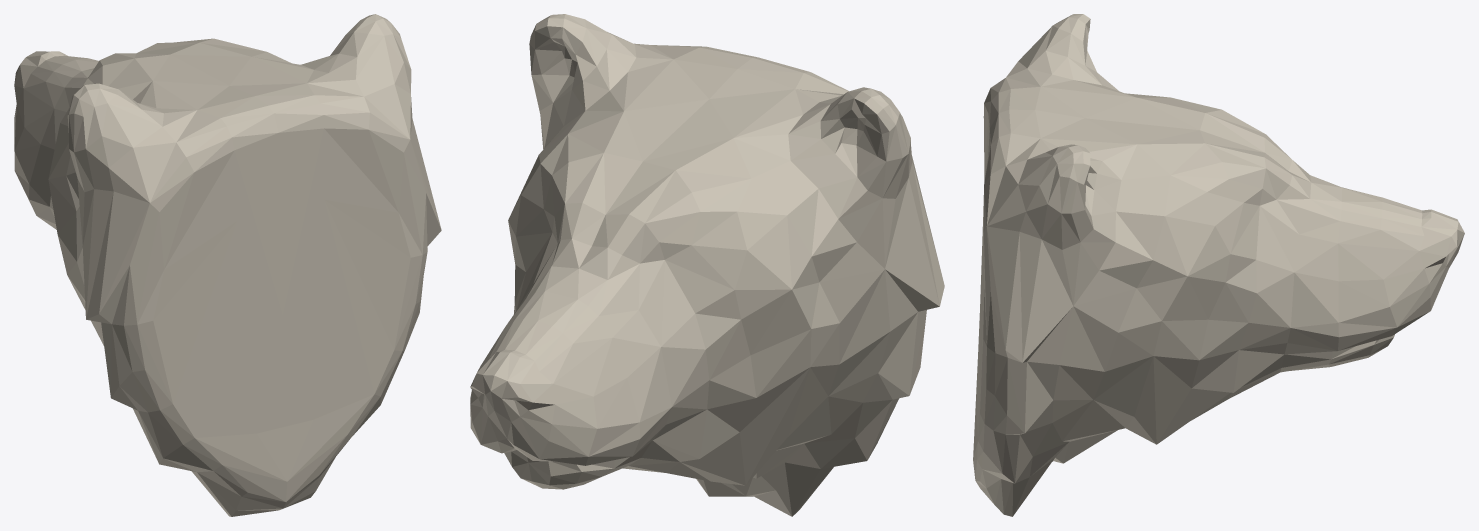
Rendered from bear_head2.glb.
The picture shows the model from 3 angles, left to right: view 1: azimuth 30°, elevation 25°; view 2: azimuth 150°, elevation 25°; view 3: azimuth 270°, elevation 25°; orthographic projection. The views are drawn at different scales.
Parts seen in each view (by area): view 1: PM3D_Sphere3D_1; view 2: PM3D_Sphere3D_1; view 3: PM3D_Sphere3D_1.
Part boxes in pixels (<box>): PM3D_Sphere3D_1: <box>14,14,441,516</box>; PM3D_Sphere3D_1: <box>470,14,944,516</box>; PM3D_Sphere3D_1: <box>973,14,1464,516</box>.
Size of the model in its own units: 2.46 by 2.89 by 3.09.
